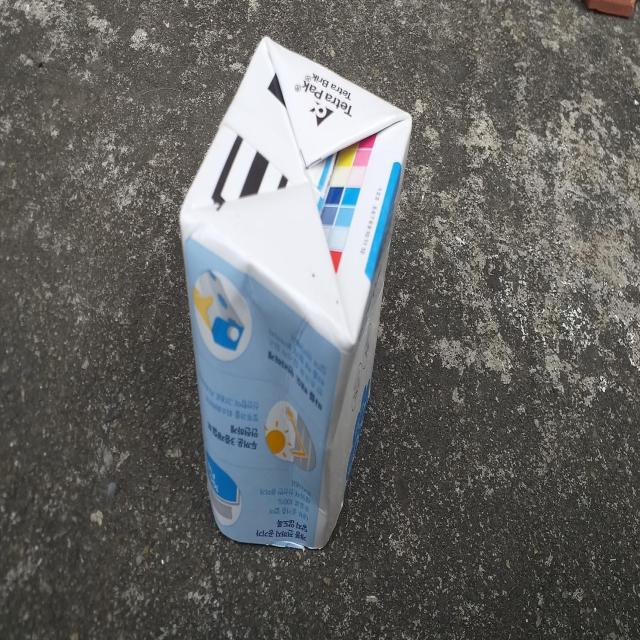paperpack: (180, 36, 412, 549)
